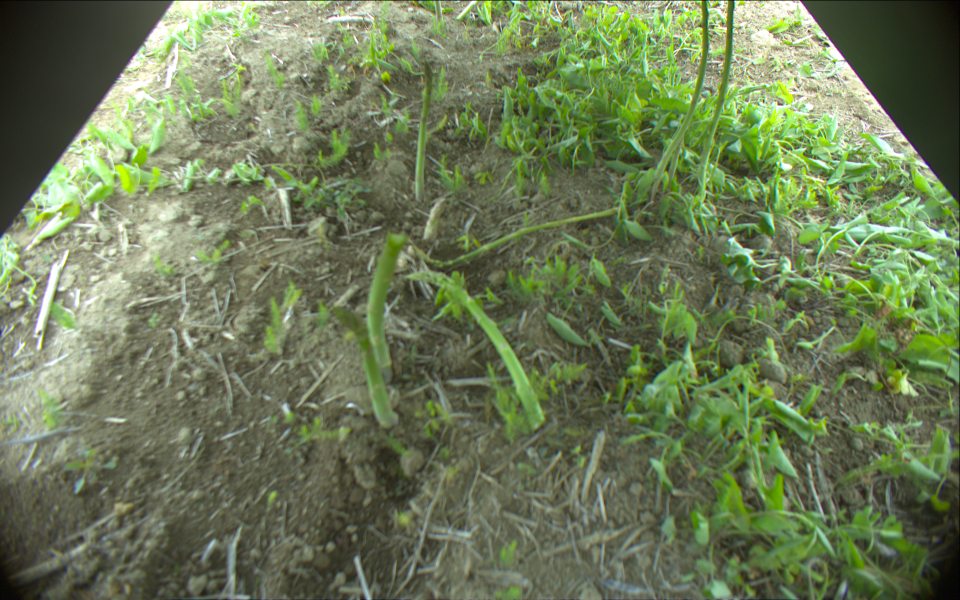aspa: (406, 268, 545, 430), (406, 203, 623, 268), (651, 1, 709, 187), (331, 306, 397, 427), (697, 1, 736, 195), (367, 230, 408, 382), (413, 66, 430, 201), (434, 1, 442, 22)
